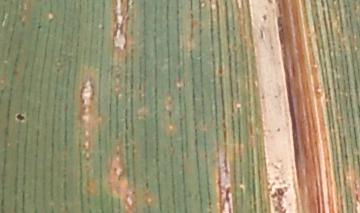tarspot: (15, 112, 26, 123), (258, 27, 265, 41), (261, 12, 268, 23), (166, 109, 173, 119), (268, 43, 274, 51), (275, 126, 281, 133), (266, 1, 274, 6), (36, 24, 43, 29)
